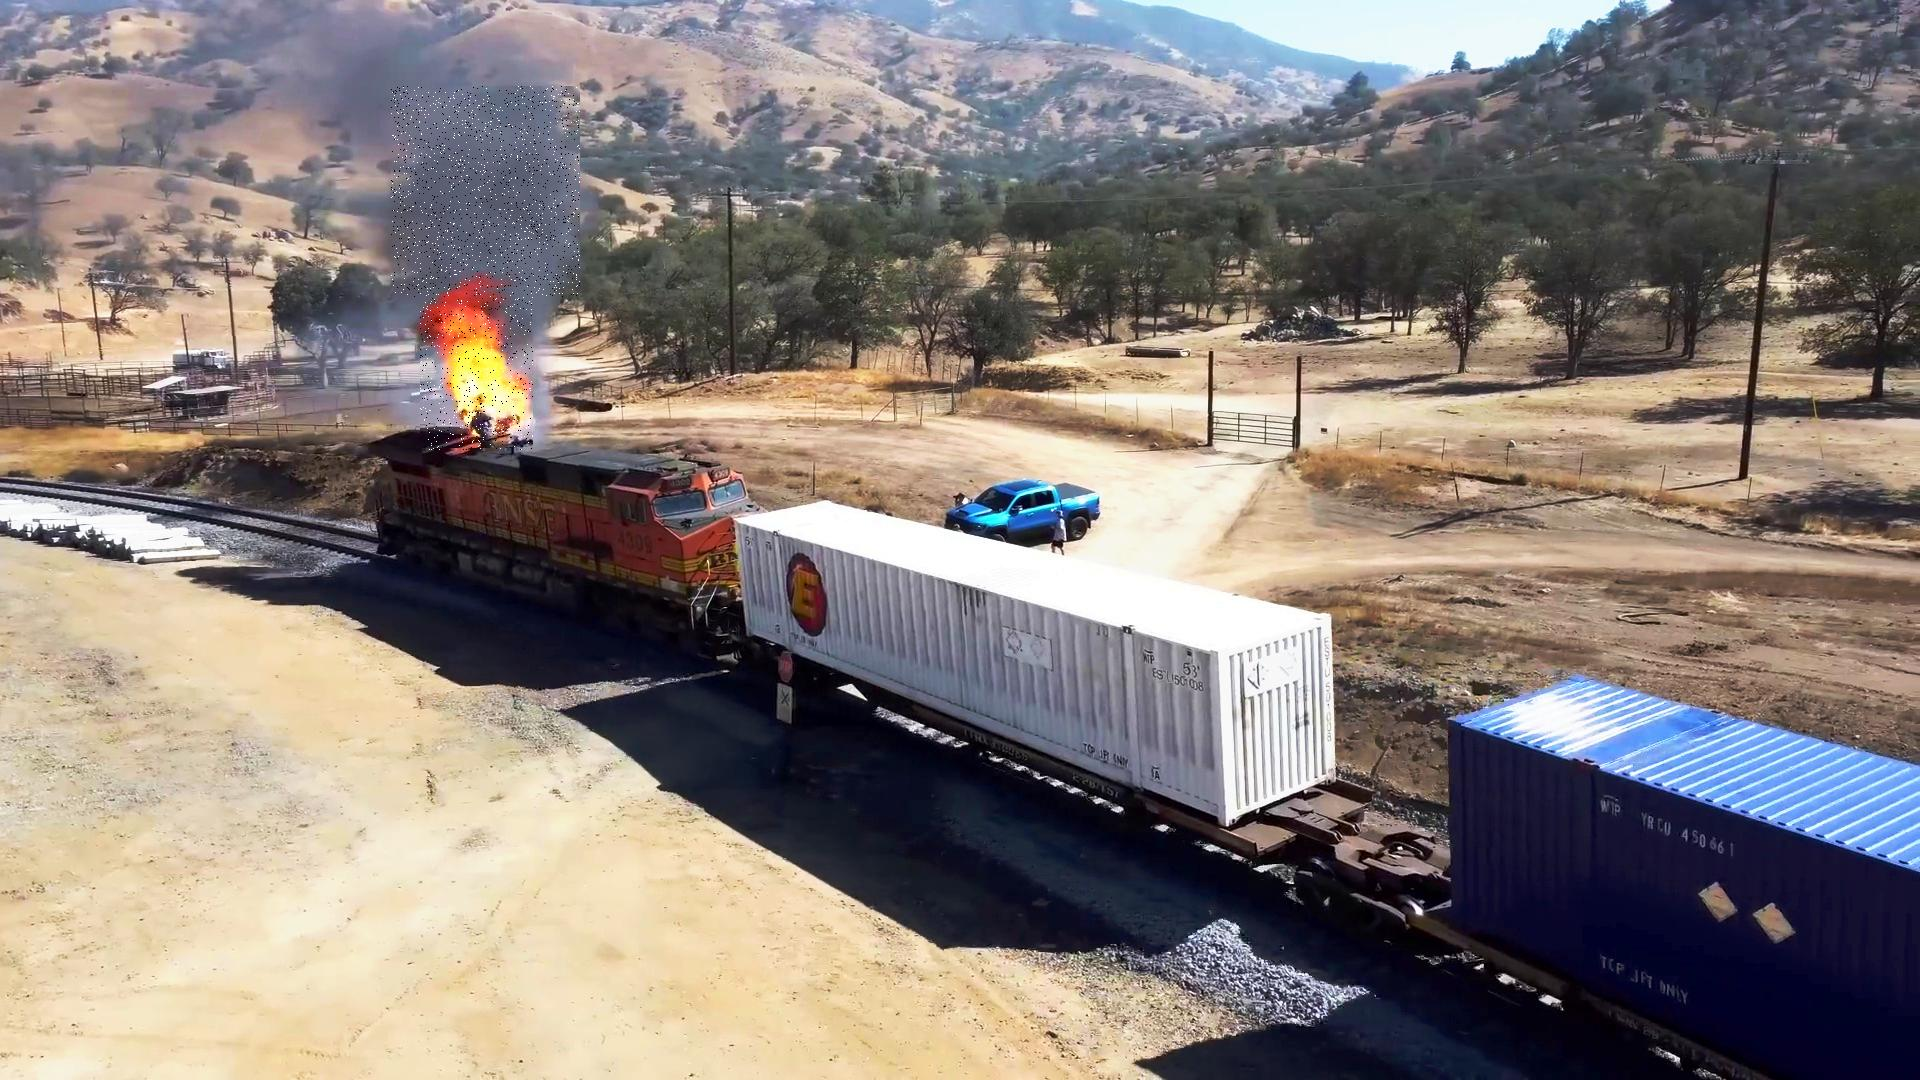fire: (421, 293, 533, 451)
smoke: (392, 87, 580, 298)
